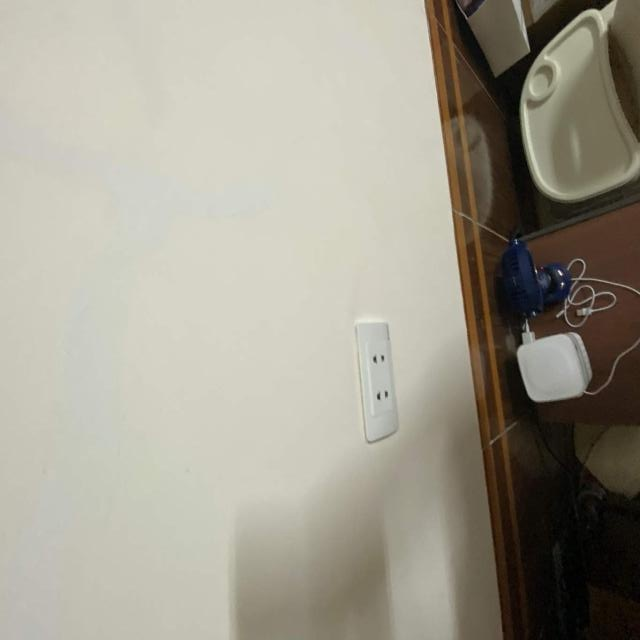outlet: (354, 321, 398, 444)
